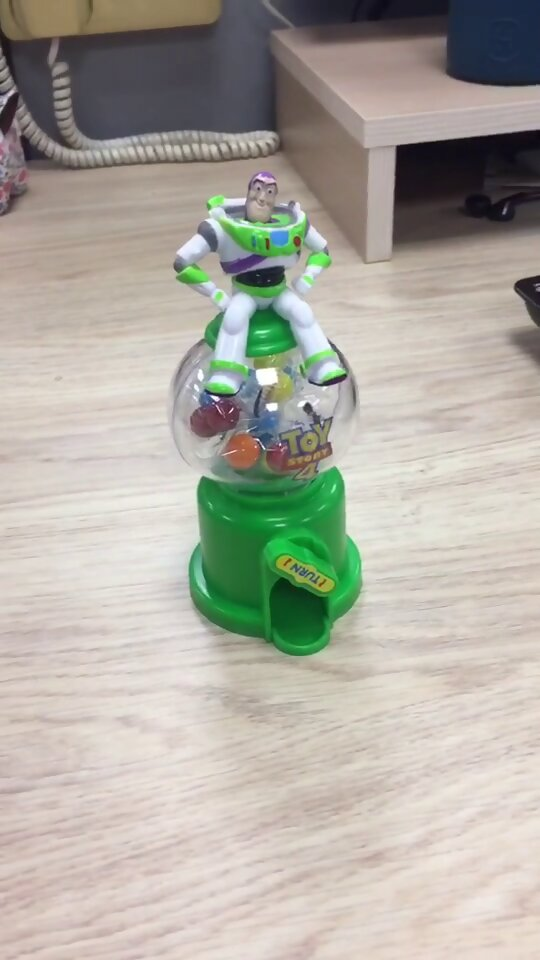buzz: (163, 166, 374, 658)
